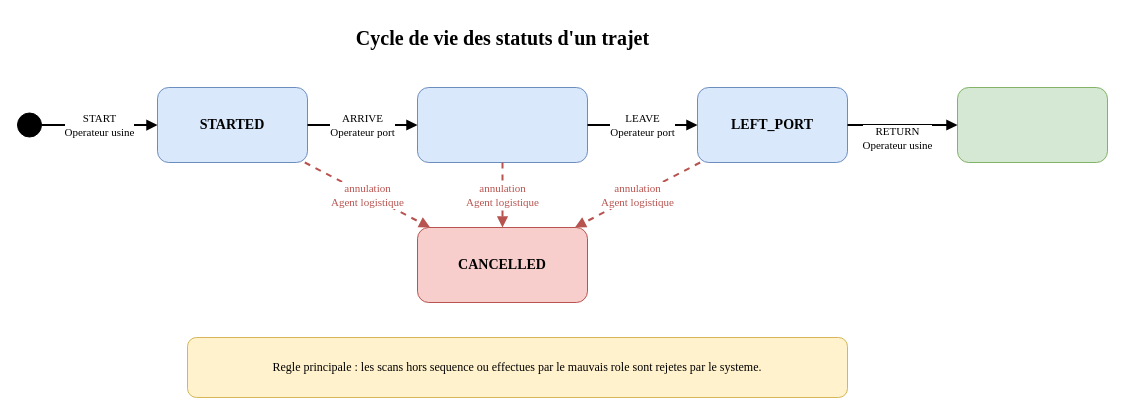
Image size: 1125x415. Some labels were removed from this diagram. The shapes that lost their labels are listed below. From the top down, each one's centre as x and y in pixels, then its label:
At [502,124]: "ARRIVED_PORT".
At [1032,124]: "COMPLETED".
